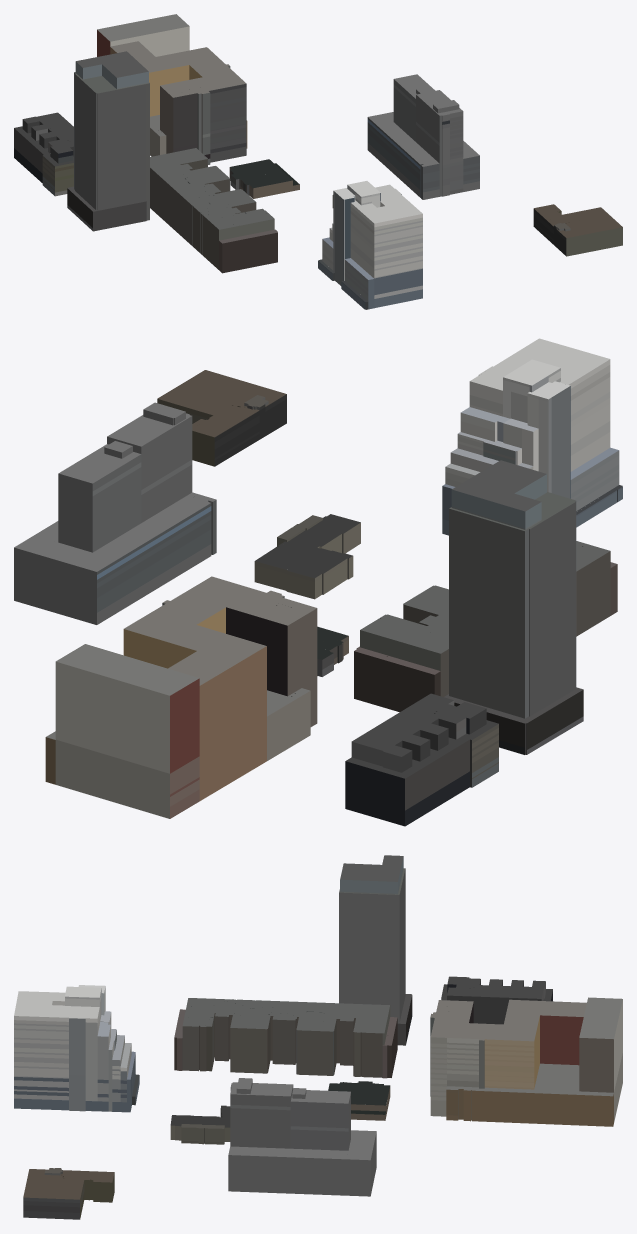
File: t_-2_-1.far.glb
The picture shows the model from 3 angles, top to bottom: view 1: azimuth 30°, elevation 25°; view 2: azimuth 150°, elevation 25°; view 3: azimuth 270°, elevation 25°; orthographic projection. The views are drawn at different scales.
Parts seen in each view (by area): view 1: opaque; view 2: opaque; view 3: opaque.
Part boxes in pixels (bbox=[...]): opaque: bbox=[14, 14, 622, 309]; opaque: bbox=[14, 338, 622, 826]; opaque: bbox=[14, 855, 622, 1219].
Bounding box in the file's own units: 265 × 97.11 × 331.
Materials: 1 (1 with a texture image).
